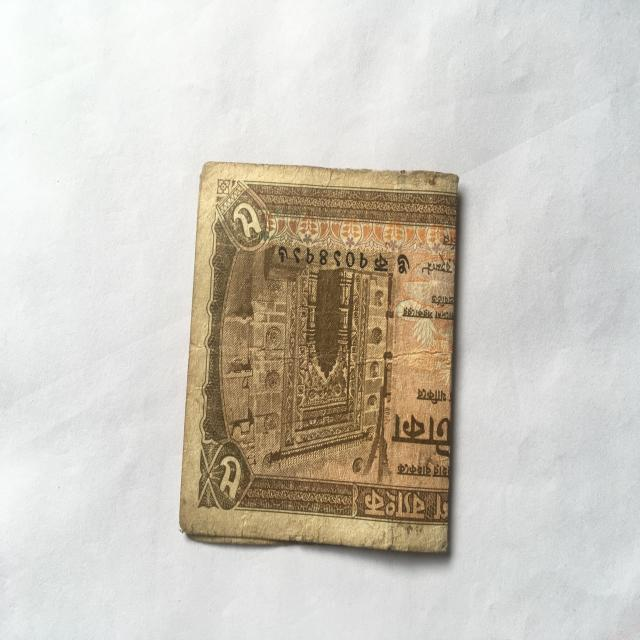Taka: (181, 150, 454, 556)
